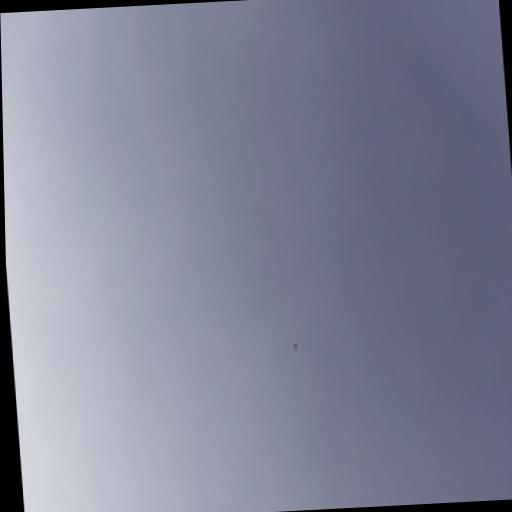drones: (292, 342, 299, 352)
